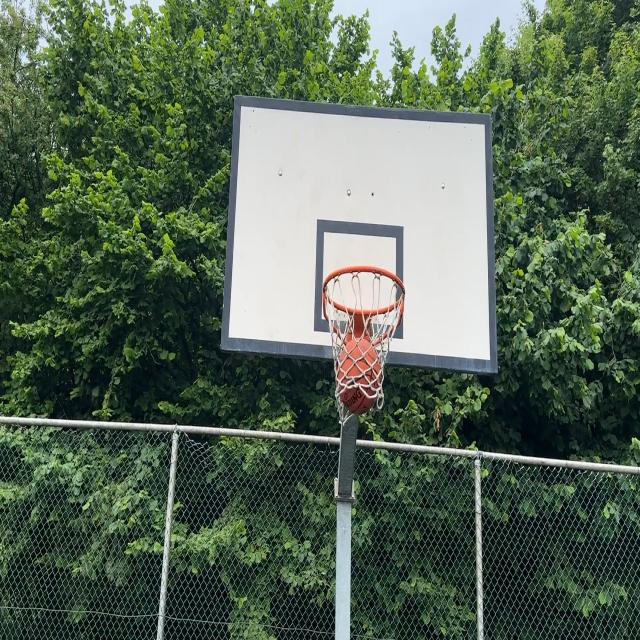Goal: (337, 339, 380, 414)
